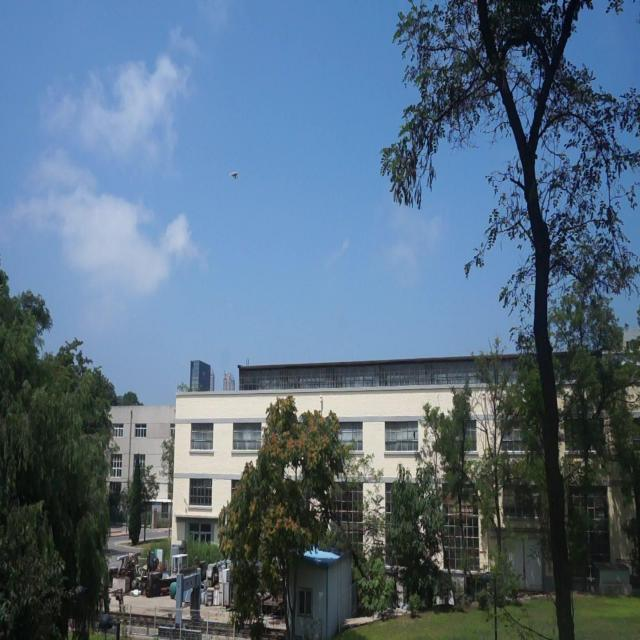UAV: (229, 170, 240, 180)
